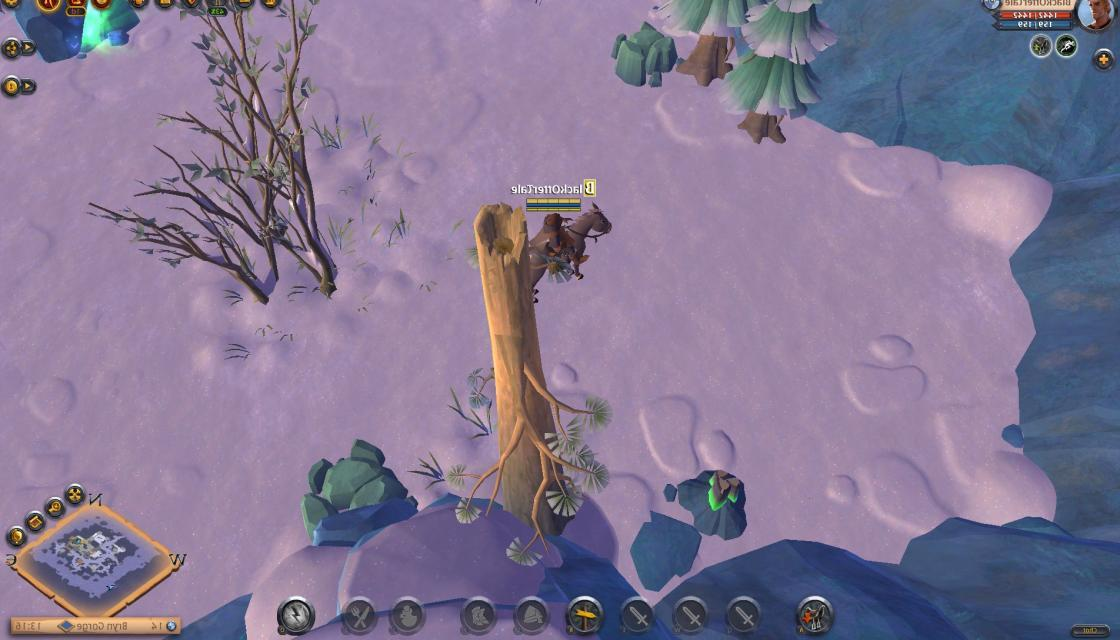sandstone: (296, 440, 418, 540), (612, 18, 679, 85)
tinore: (676, 466, 750, 540)
